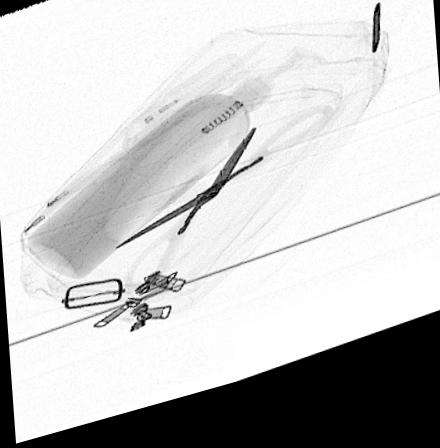Scissors: (114, 122, 335, 307)
